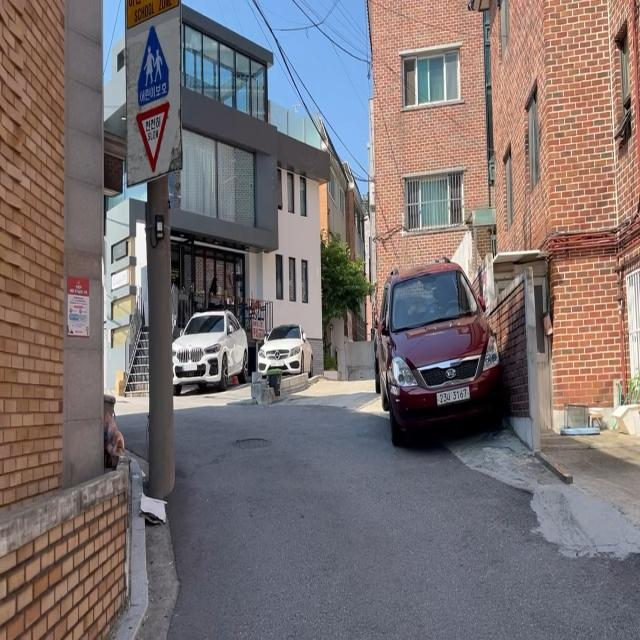building: (366, 0, 639, 444), (118, 17, 310, 390)
car: (373, 256, 503, 446), (172, 308, 248, 394), (257, 322, 313, 378)
cat: (104, 409, 125, 469)
